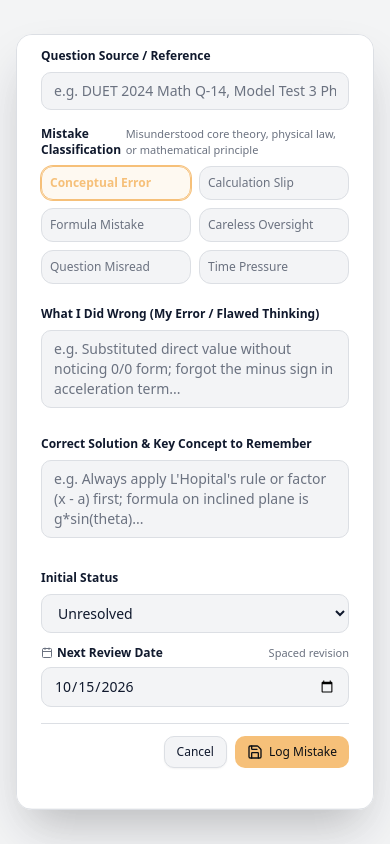
Test: RecordMistakeModal › shows validation errors when required fields are empty
(page scrolled)
Click the button "Log Mistake" at (292, 752), box [235,736,349,768]
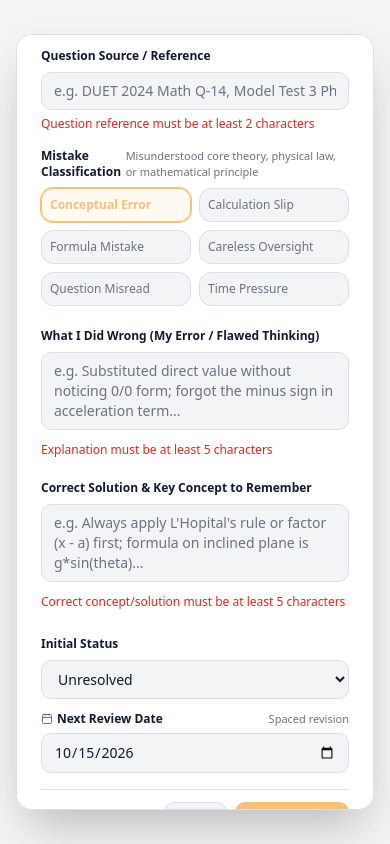
Now the text "Question reference must be at least 2 characters" is shown, box [41,116,349,132]
Now the text "Explanation must be at least 5 characters" is shown, box [41,441,273,458]
Now the text "Correct concept/solution must be at least 5 characters" is shown, box [41,594,349,610]
